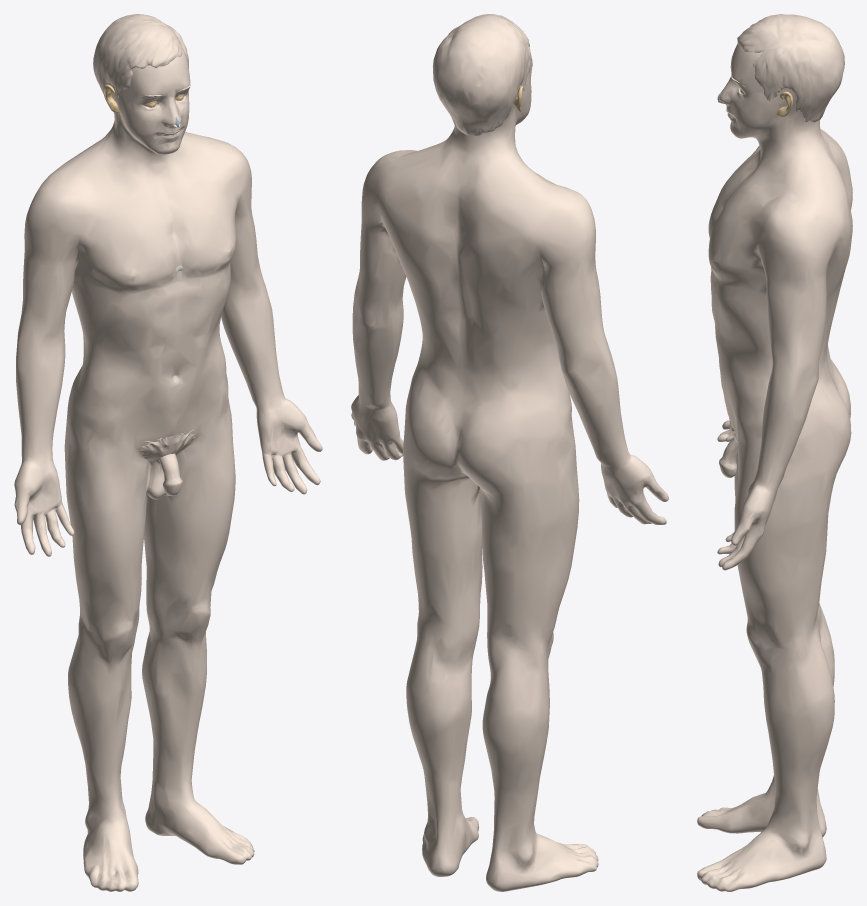
The model's file is human-body.glb.
3 views of the same model, side by side, from view 1: azimuth 30°, elevation 25°; view 2: azimuth 150°, elevation 25°; view 3: azimuth 270°, elevation 25° (orthographic). The views are drawn at different scales.
Parts seen in each view (by area): view 1: skin; view 2: skin; view 3: skin.
Boxes of the visible parts, x1,y1,x2,y2 form: skin: (14,14,322,891); skin: (351,14,668,891); skin: (697,14,852,891).
Size of the model in its own units: 0.6668 by 1.73 by 0.292.
